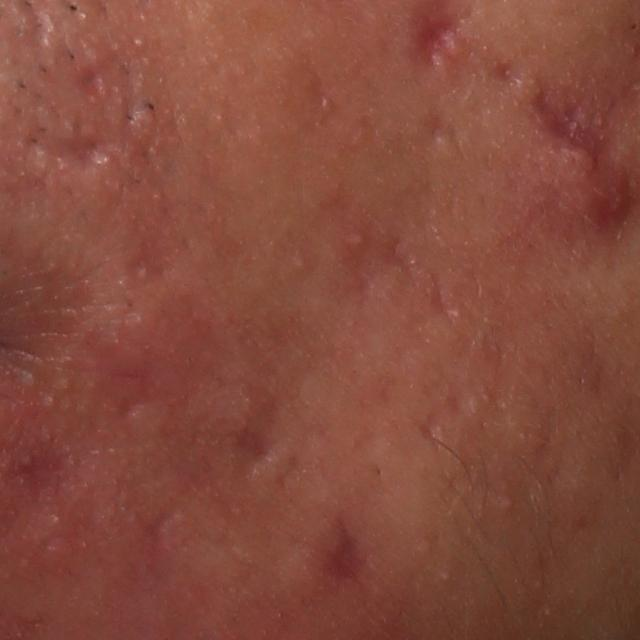atrophic_scar: (337, 219, 456, 333), (37, 127, 128, 177), (321, 510, 381, 584), (67, 58, 116, 107), (414, 407, 444, 454)
